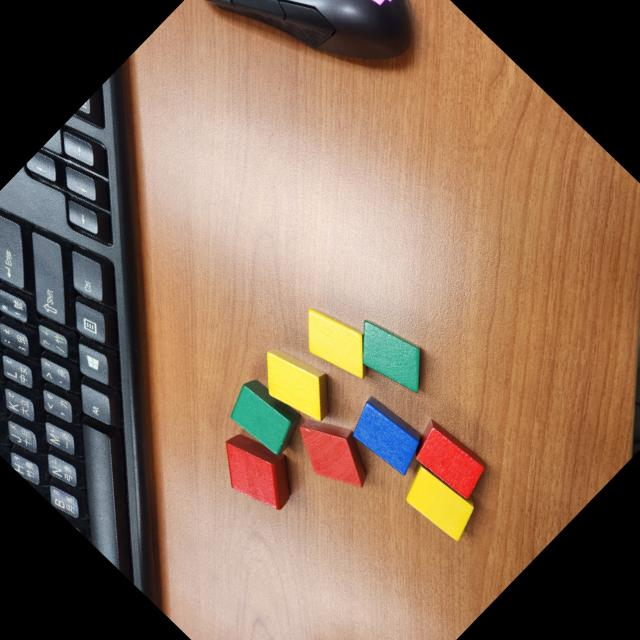blue: (340, 389, 434, 483)
green: (338, 304, 442, 408), (218, 370, 310, 462)
red: (204, 418, 310, 524), (282, 402, 386, 506), (403, 414, 495, 504)
yellow: (245, 332, 348, 434), (286, 294, 386, 394), (394, 458, 488, 550)
